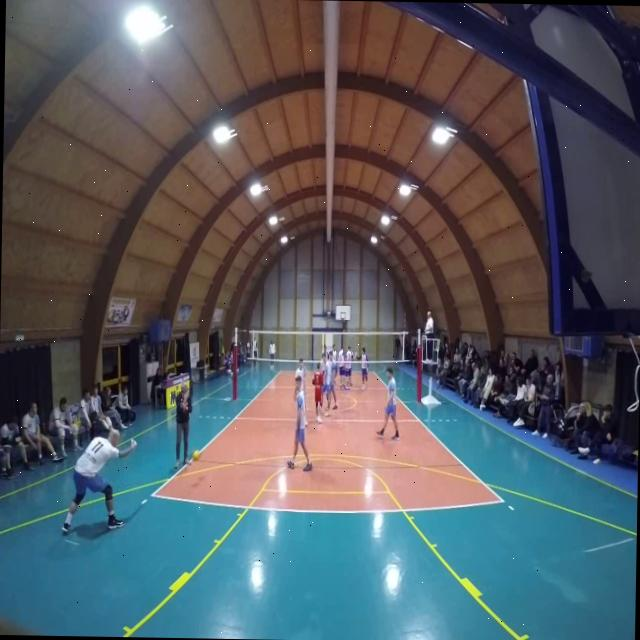Volleyball: (191, 448, 201, 466)
